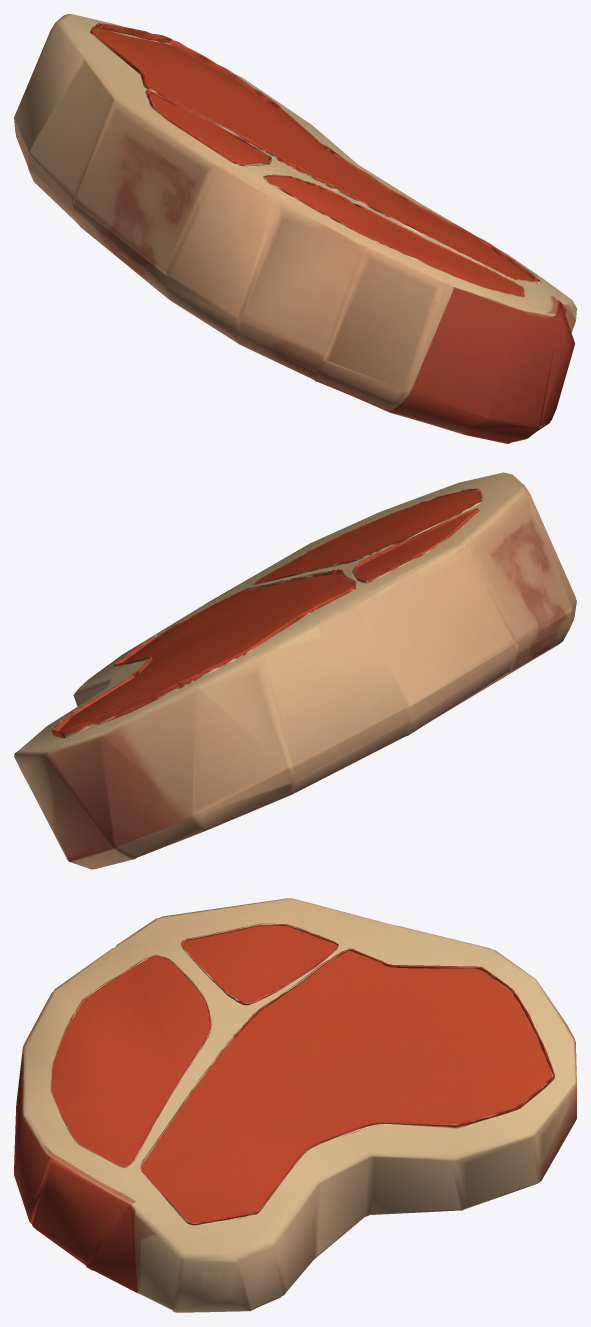
File: steak_3d_model.glb
The picture shows the model from 3 angles, top to bottom: view 1: azimuth 30°, elevation 25°; view 2: azimuth 150°, elevation 25°; view 3: azimuth 270°, elevation 25°; orthographic projection. The views are drawn at different scales.
Parts seen in each view (by area): view 1: world; view 2: world; view 3: world.
Boxes of the visible parts, x1,y1,x2,y2 form: world: (14,14,576,443); world: (14,472,576,869); world: (14,898,576,1312).
Size of the model in its own units: 0.7324 by 0.541 by 0.998.
1 material, 1 textured.
